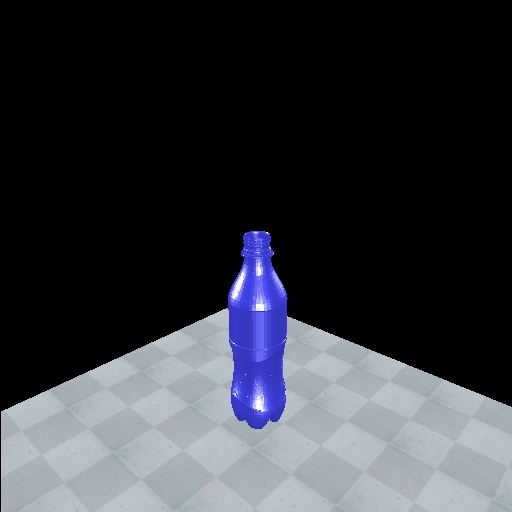bottle: (223, 226, 291, 434)
